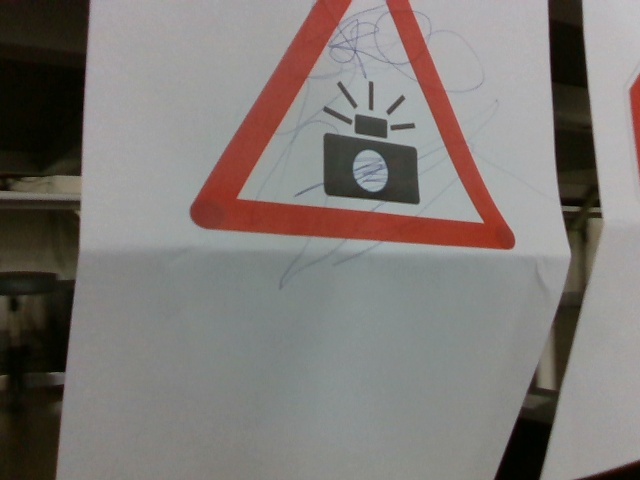camera: (197, 1, 514, 257)
